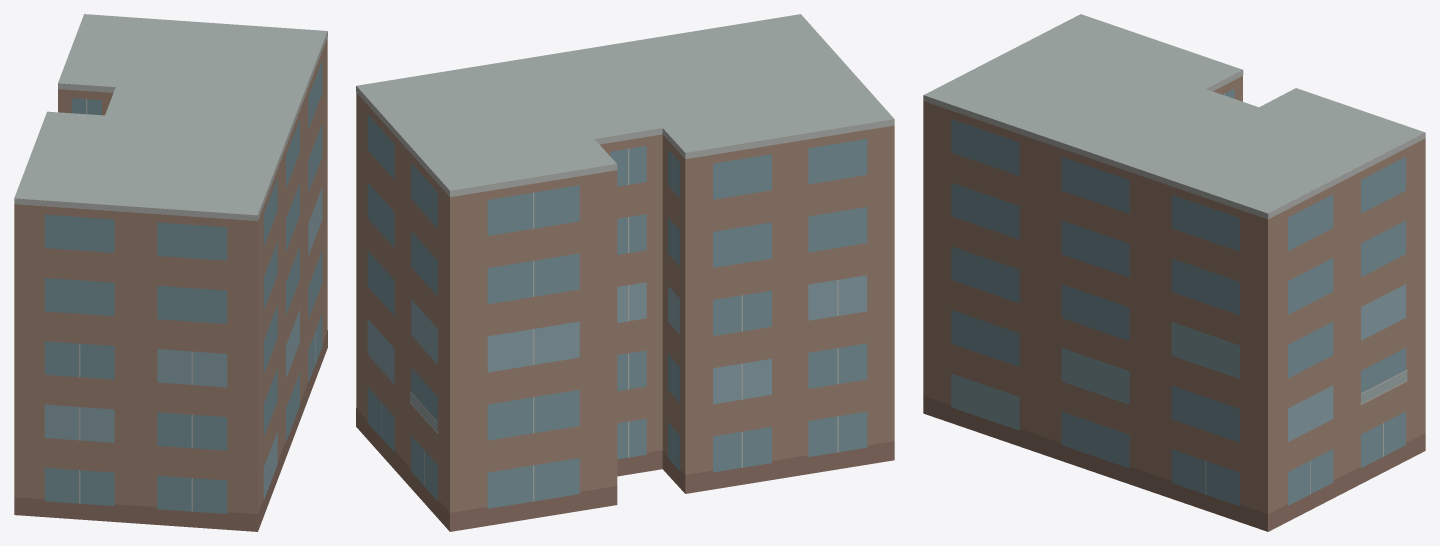
Rendered from survey-upis-33008179.glb.
3 renders of one model, left to right at view 1: azimuth 30°, elevation 25°; view 2: azimuth 150°, elevation 25°; view 3: azimuth 270°, elevation 25°, orthographic. The views are drawn at different scales.
Parts seen in each view (by area): view 1: survey-upis-33008179.tmp; view 2: survey-upis-33008179.tmp; view 3: survey-upis-33008179.tmp.
Part boxes in pixels (x1=…): survey-upis-33008179.tmp: x1=14, y1=14, x2=327, y2=531; survey-upis-33008179.tmp: x1=356, y1=14, x2=894, y2=531; survey-upis-33008179.tmp: x1=923, y1=14, x2=1425, y2=531.
Bounding box in the file's own units: 17.8 × 13.23 × 18.92.
